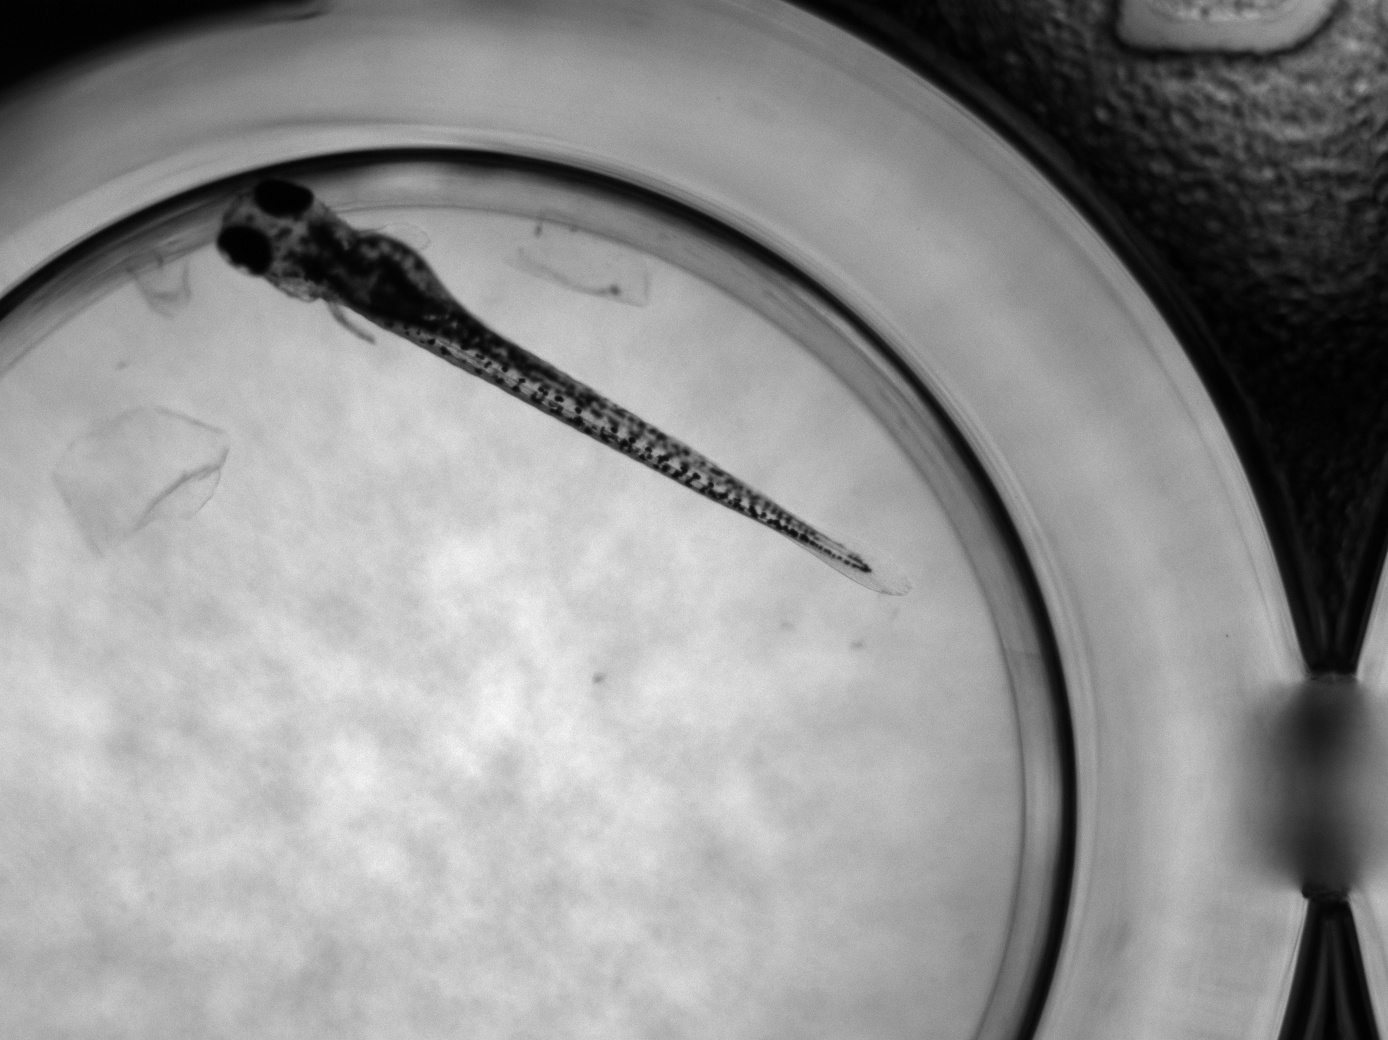debris: (54, 405, 229, 567)
embryo: (213, 178, 906, 595)
eye: (216, 224, 273, 276), (253, 178, 313, 218)
yolksac: (335, 236, 440, 327)
